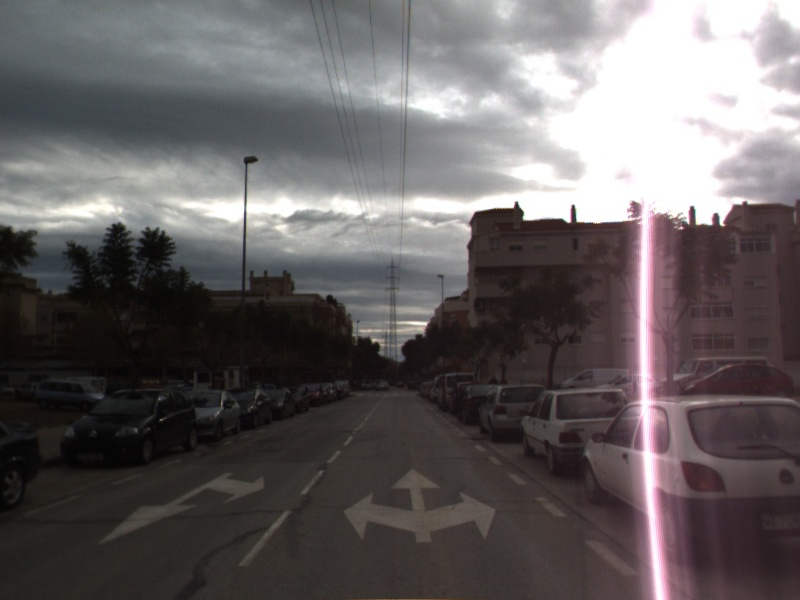STRAIGHT_LEFT_RIGHT: (341, 466, 498, 544)
